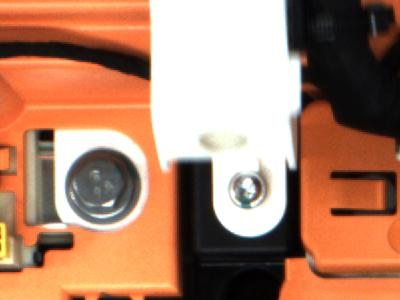nut_b: (66, 146, 151, 232)
screw_m: (227, 165, 274, 219)
